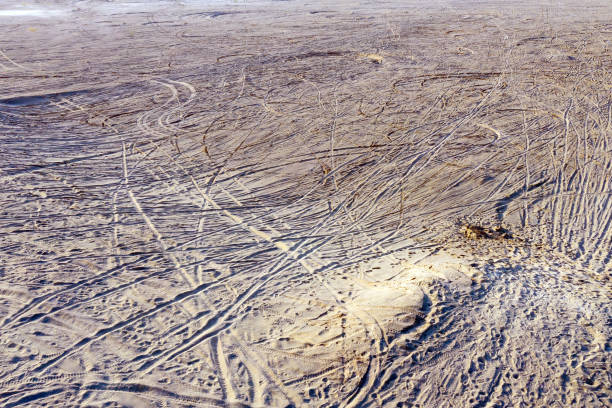vehicle_track: (132, 146, 392, 407), (98, 142, 306, 400), (132, 65, 200, 147)
